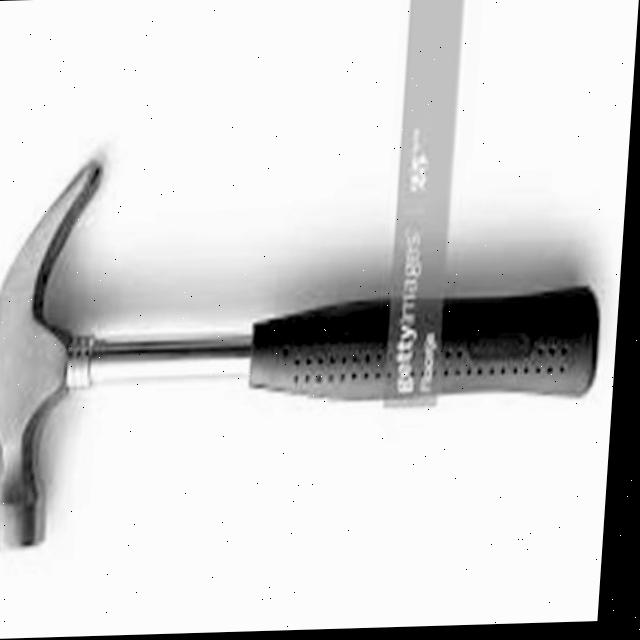hammer: (0, 124, 383, 569)
